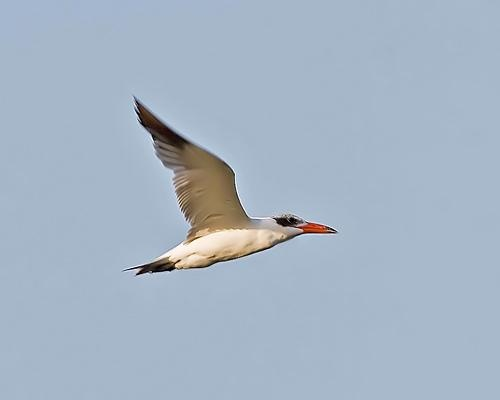bird: (119, 90, 338, 276)
